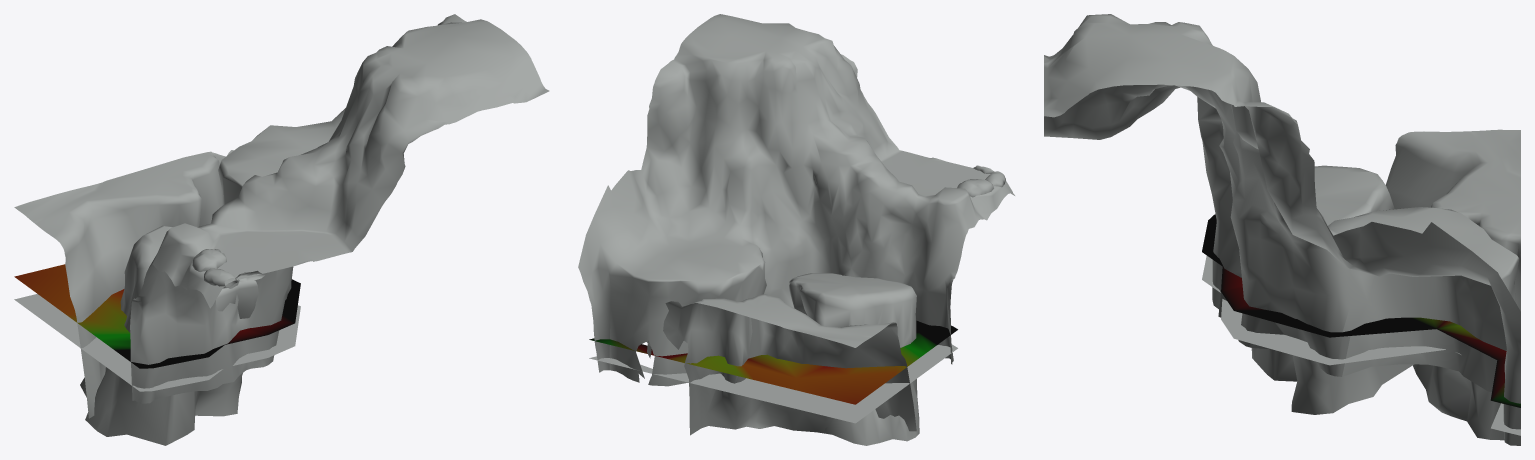
The picture shows the model from 3 angles, left to right: view 1: azimuth 30°, elevation 25°; view 2: azimuth 150°, elevation 25°; view 3: azimuth 270°, elevation 25°; orthographic projection. The views are drawn at different scales.
Parts seen in each view (by area): view 1: G:\FFXIV-MapTools\exports\w1f4\bg\ffxiv\wil_w1\fld\w1f4\bgpl (×13); view 2: G:\FFXIV-MapTools\exports\w1f4\bg\ffxiv\wil_w1\fld\w1f4\bgpl (×12); view 3: G:\FFXIV-MapTools\exports\w1f4\bg\ffxiv\wil_w1\fld\w1f4\bgpl (×10).
Boxes of the visible parts, x1,y1,x2,y2 form: G:\FFXIV-MapTools\exports\w1f4\bg\ffxiv\wil_w1\fld\w1f4\bgpl (×13): (14,14,549,445); G:\FFXIV-MapTools\exports\w1f4\bg\ffxiv\wil_w1\fld\w1f4\bgpl (×12): (578,14,1014,445); G:\FFXIV-MapTools\exports\w1f4\bg\ffxiv\wil_w1\fld\w1f4\bgpl (×10): (1044,14,1520,445).
Bounding box in the file's own units: 128 × 134 × 128.
